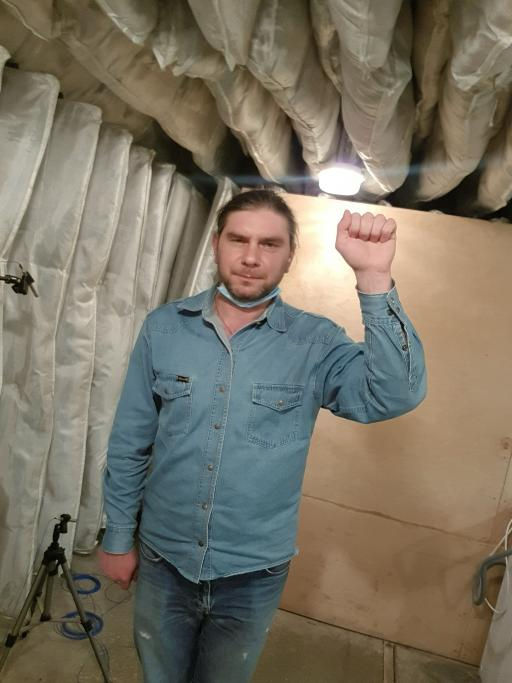fist: (332, 205, 400, 274)
no_gesture: (94, 544, 141, 591)
